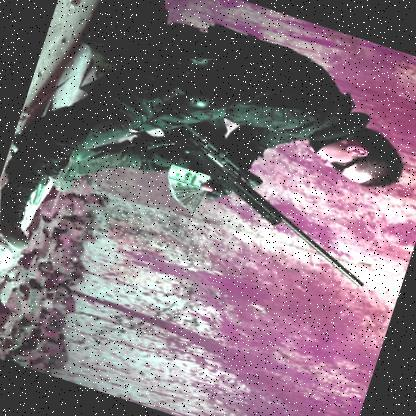rifle: (126, 118, 398, 290)
